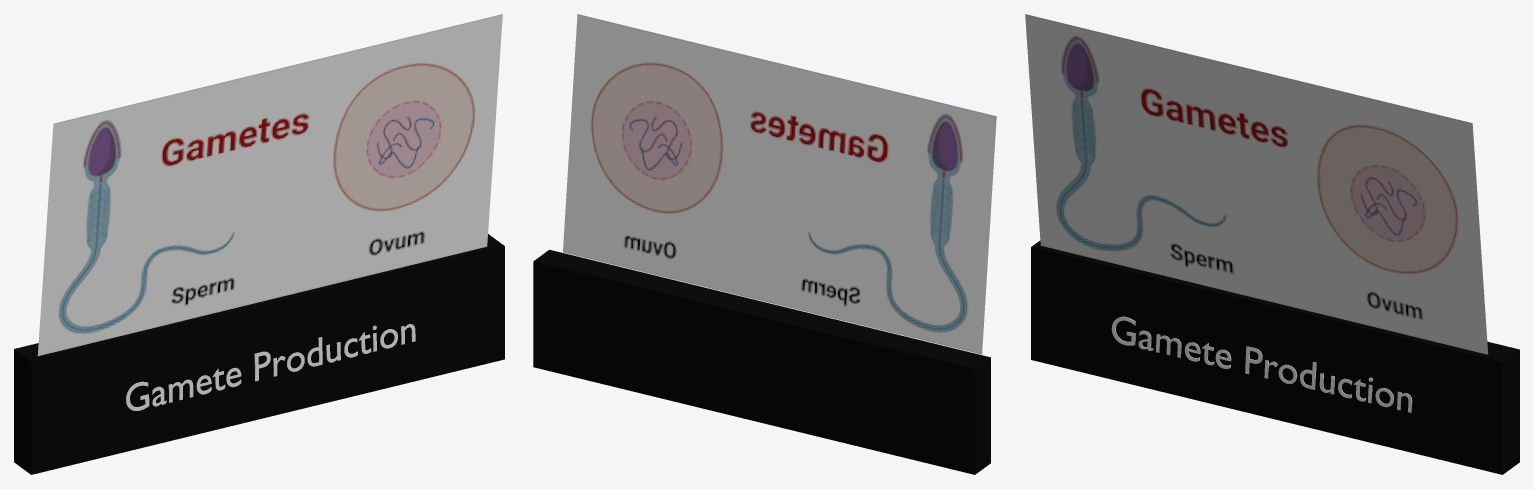
The model's file is gametes.gltf.
3 renders of one model, left to right at view 1: azimuth 30°, elevation 25°; view 2: azimuth 150°, elevation 25°; view 3: azimuth 330°, elevation 25°, orthographic. The views are drawn at different scales.
Visible parts, largest first — view 1: gamete, Cube.008, Text; view 2: gamete, Cube.008; view 3: gamete, Cube.008, Text.
Part boxes in pixels (box(x1,y1,x2,y2)): gamete: box(37, 14, 502, 356); Cube.008: box(14, 234, 504, 474); Text: box(125, 324, 415, 410); gamete: box(563, 14, 996, 354); Cube.008: box(533, 249, 990, 474); gamete: box(1025, 14, 1488, 354); Cube.008: box(1031, 240, 1519, 474); Text: box(1111, 316, 1412, 412).
Bounding box in the file's own units: 3.34 × 2.42 × 0.3828.
Materials: 2 (1 with a texture image).
